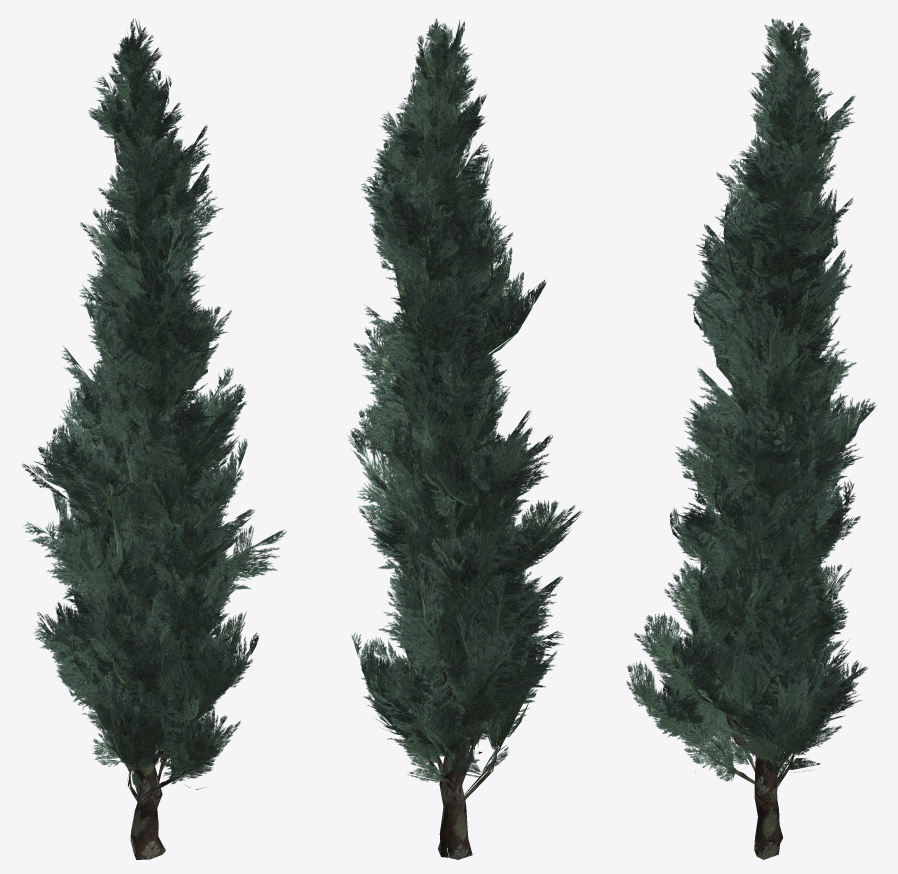
Rendered from cypress_a.glb.
3 views of the same model, side by side, from view 1: azimuth 30°, elevation 25°; view 2: azimuth 150°, elevation 25°; view 3: azimuth 270°, elevation 25° (orthographic). The views are drawn at different scales.
Visible parts, largest first — view 1: Cypress_V2_test_Cypress_2_sided_0; view 2: Cypress_V2_test_Cypress_2_sided_0; view 3: Cypress_V2_test_Cypress_2_sided_0.
Part boxes in pixels (box(x1,y1,x2,y2)): Cypress_V2_test_Cypress_2_sided_0: box(22, 18, 286, 859); Cypress_V2_test_Cypress_2_sided_0: box(347, 18, 582, 859); Cypress_V2_test_Cypress_2_sided_0: box(626, 18, 876, 859).
Size of the model in its own units: 1.66 by 5.31 by 1.5.
2 materials, 2 textured.
